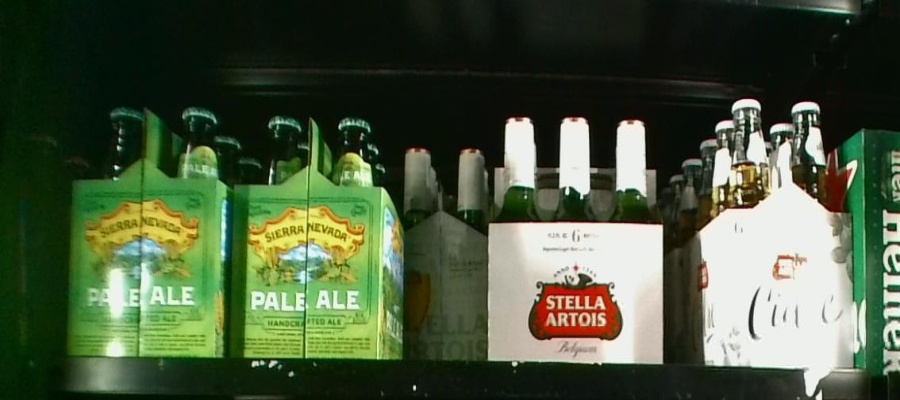bottle: (666, 90, 849, 368), (63, 101, 238, 356), (488, 114, 663, 364), (238, 111, 407, 359)
